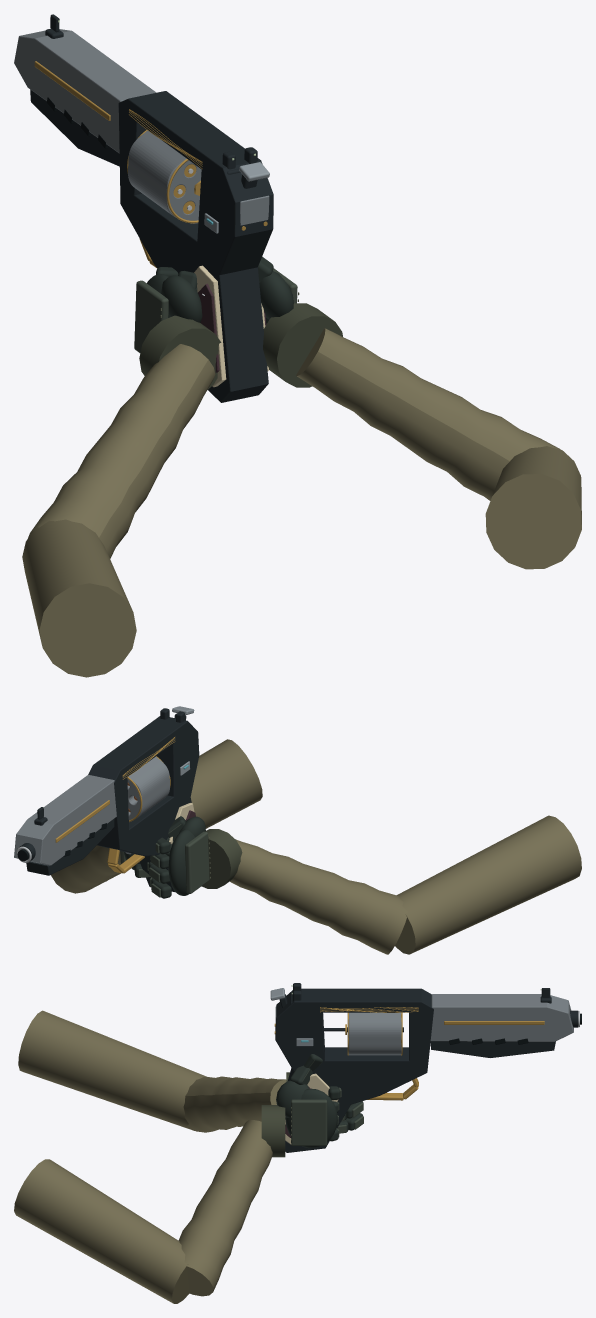
File: meridian-6-original.glb
3 views of the same model, one above another, from view 1: azimuth 30°, elevation 25°; view 2: azimuth 150°, elevation 25°; view 3: azimuth 270°, elevation 25° (orthographic). The views are drawn at different scales.
Visible parts, largest first — view 1: Sleeve (×2), RelicFrame, LeftHand, RightHand, SixChamberCylinder; view 2: Sleeve (×2), RelicFrame, LeftHand, SixChamberCylinder; view 3: Sleeve (×2), RelicFrame, RightHand, SixChamberCylinder.
Part boxes in pixels (left/top/right/bottom): Sleeve (×2): left=22, top=328, right=581, bottom=677; RelicFrame: left=14, top=14, right=273, bottom=402; LeftHand: left=134, top=274, right=221, bottom=389; RightHand: left=259, top=268, right=342, bottom=387; SixChamberCylinder: left=127, top=130, right=201, bottom=223; Sleeve (×2): left=51, top=739, right=581, bottom=954; RelicFrame: left=14, top=708, right=199, bottom=892; LeftHand: left=168, top=816, right=242, bottom=895; SixChamberCylinder: left=127, top=756, right=170, bottom=821; Sleeve (×2): left=14, top=1010, right=286, bottom=1303; RelicFrame: left=274, top=983, right=581, bottom=1152; RightHand: left=261, top=1080, right=337, bottom=1157; SixChamberCylinder: left=347, top=1012, right=403, bottom=1055.
Bounding box in the file's own units: 0.8293 × 0.4525 × 0.953.
